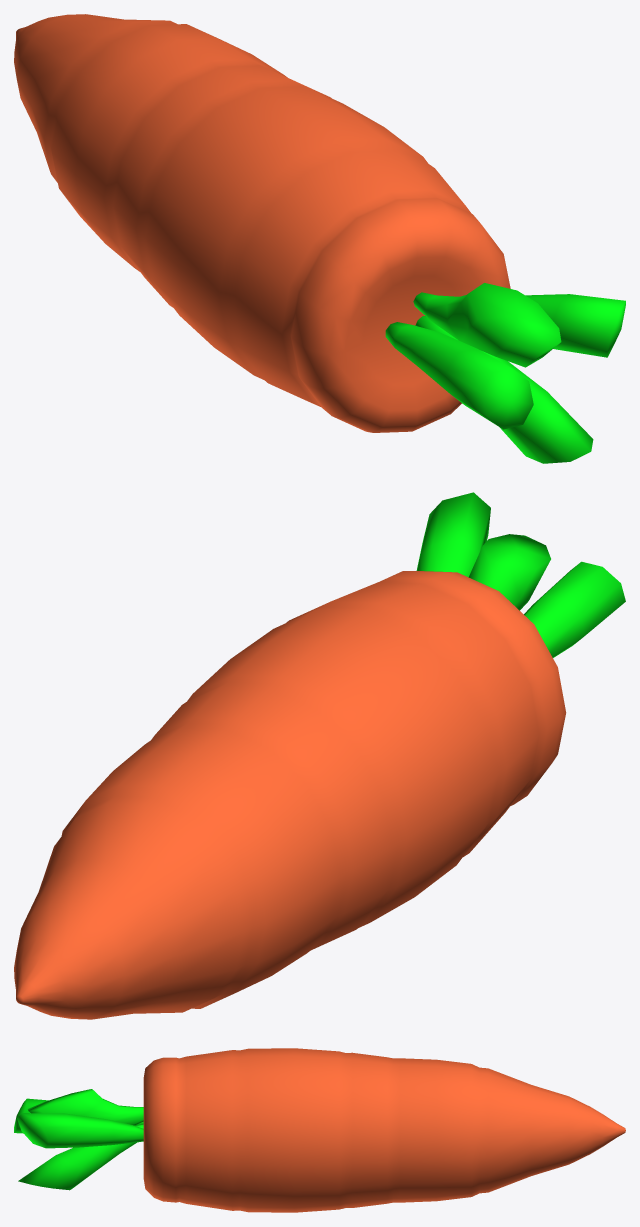
Rendered from Carrot.fbx.
The picture shows the model from 3 angles, top to bottom: view 1: azimuth 30°, elevation 25°; view 2: azimuth 150°, elevation 25°; view 3: azimuth 270°, elevation 25°; orthographic projection. The views are drawn at different scales.
Visible parts, largest first — view 1: CarrotMainBody; view 2: CarrotMainBody; view 3: CarrotMainBody.
Part boxes in pixels (bbox=[...]): CarrotMainBody: bbox=[14, 14, 625, 463]; CarrotMainBody: bbox=[14, 492, 625, 1019]; CarrotMainBody: bbox=[14, 1048, 625, 1212].
Bounding box in the file's own units: 12.55 × 12.55 × 46.63.
